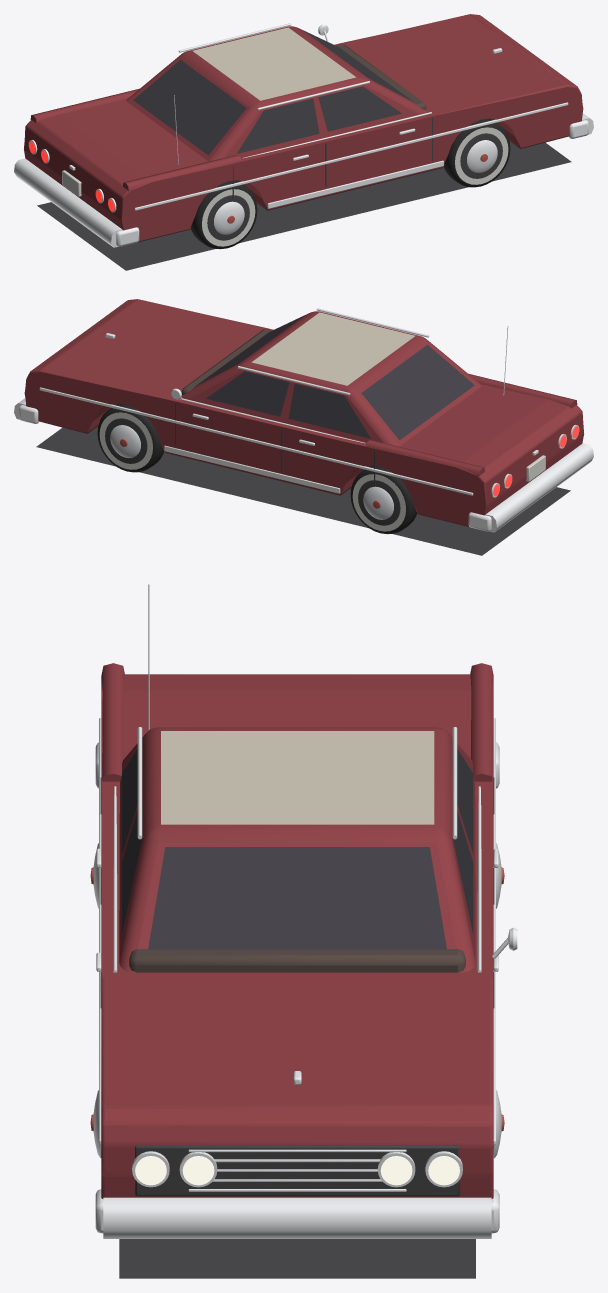
Rendered from car_sedan_c.glb.
3 renders of one model, top to bottom at view 1: azimuth 30°, elevation 25°; view 2: azimuth 150°, elevation 25°; view 3: azimuth 270°, elevation 25°, orthographic. The views are drawn at different scales.
Parts seen in each view (by area): view 1: car_sedan_c; view 2: car_sedan_c; view 3: car_sedan_c.
Part boxes in pixels (x1,y1,x2,y2): car_sedan_c: (14,14,593,270); car_sedan_c: (14,299,593,555); car_sedan_c: (90,584,517,1278).
Bounding box in the file's own units: 5.63 × 1.75 × 2.15.
